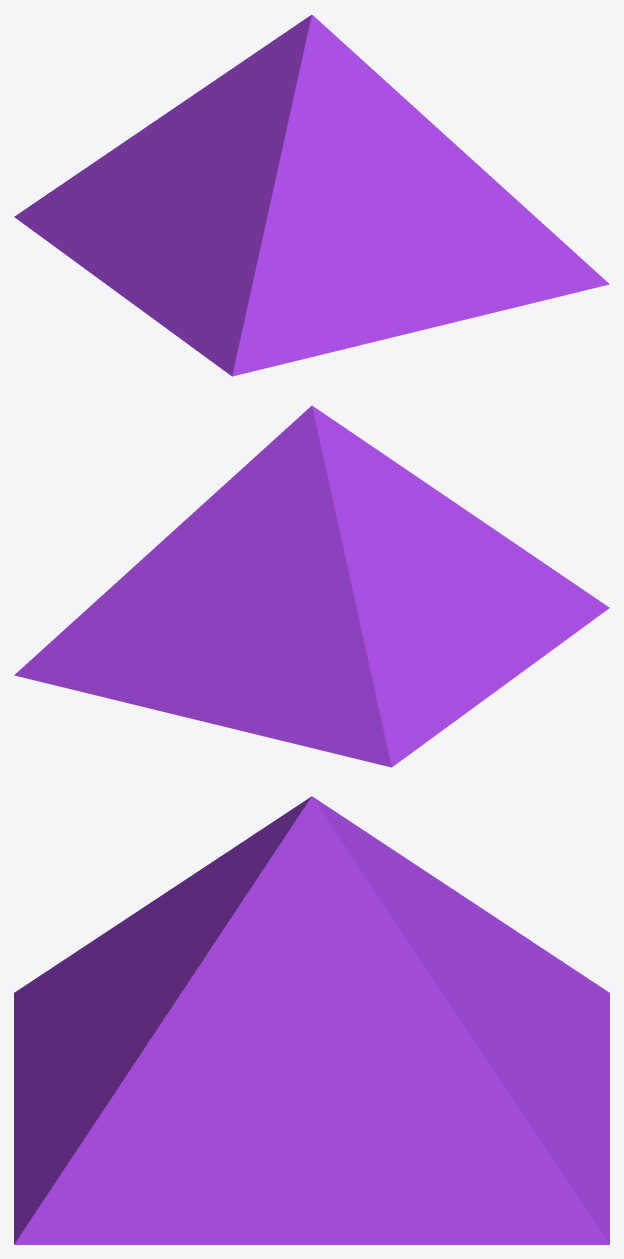
Rendered from Window_26.fbx.
The picture shows the model from 3 angles, top to bottom: view 1: azimuth 30°, elevation 25°; view 2: azimuth 150°, elevation 25°; view 3: azimuth 270°, elevation 25°; orthographic projection. The views are drawn at different scales.
Parts seen in each view (by area): view 1: Window_26; view 2: Window_26; view 3: Window_26.
Boxes of the visible parts, x1=… form: Window_26: x1=14, y1=14, x2=609, y2=376; Window_26: x1=14, y1=405, x2=609, y2=767; Window_26: x1=14, y1=796, x2=609, y2=1244.
Bounding box in the file's own units: 2495 × 1491 × 2495.
